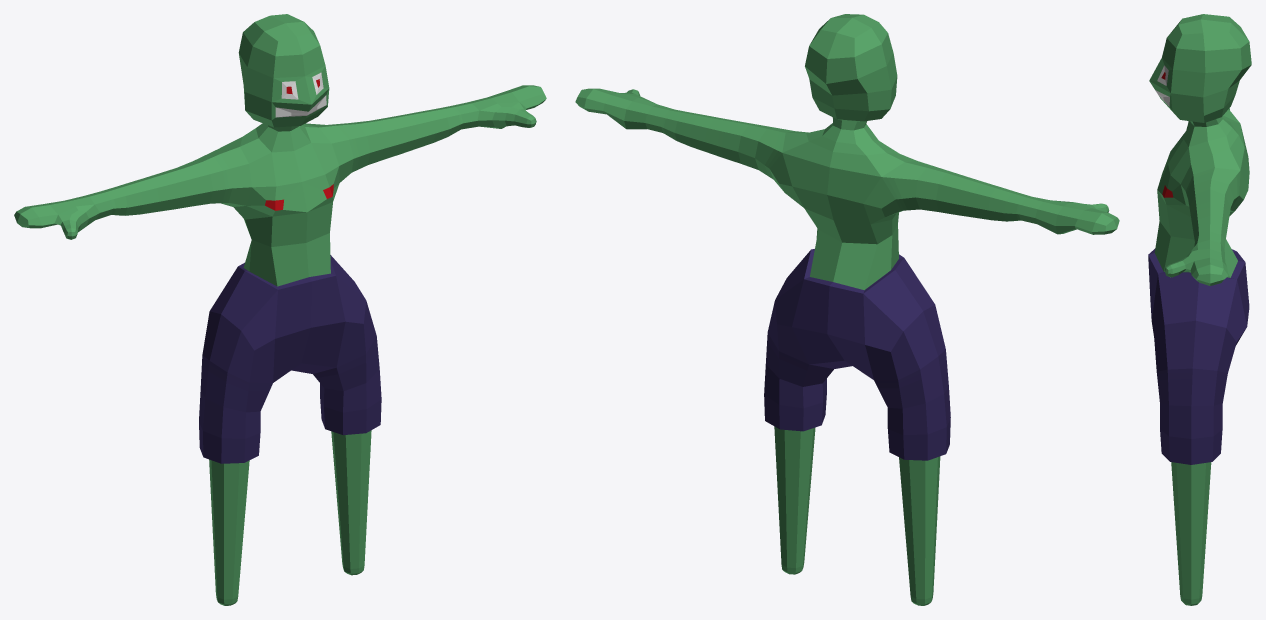
File: ghoul.fbx
3 views of the same model, side by side, from view 1: azimuth 30°, elevation 25°; view 2: azimuth 150°, elevation 25°; view 3: azimuth 270°, elevation 25° (orthographic). The views are drawn at different scales.
Visible parts, largest first — view 1: ghoul; view 2: ghoul; view 3: ghoul.
Part boxes in pixels (bbox=[...]): ghoul: bbox=[14, 14, 546, 605]; ghoul: bbox=[575, 14, 1119, 605]; ghoul: bbox=[1148, 14, 1251, 605].
Size of the model in its own units: 649 by 661 by 112.
